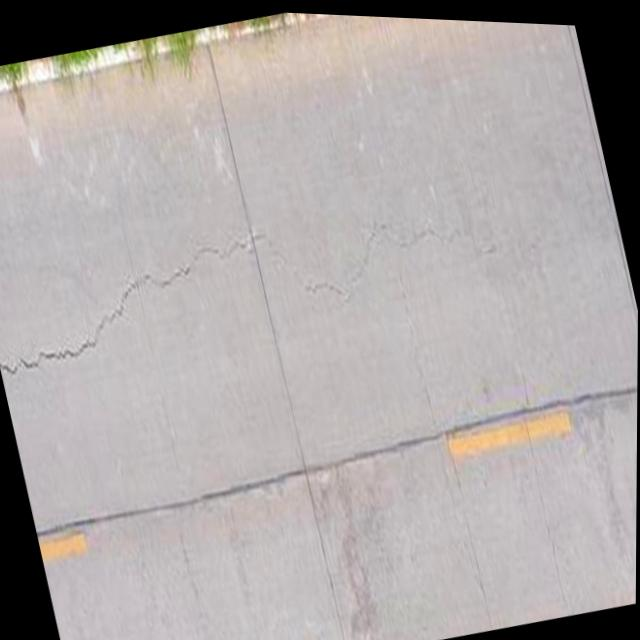Crack: (0, 229, 230, 401)
